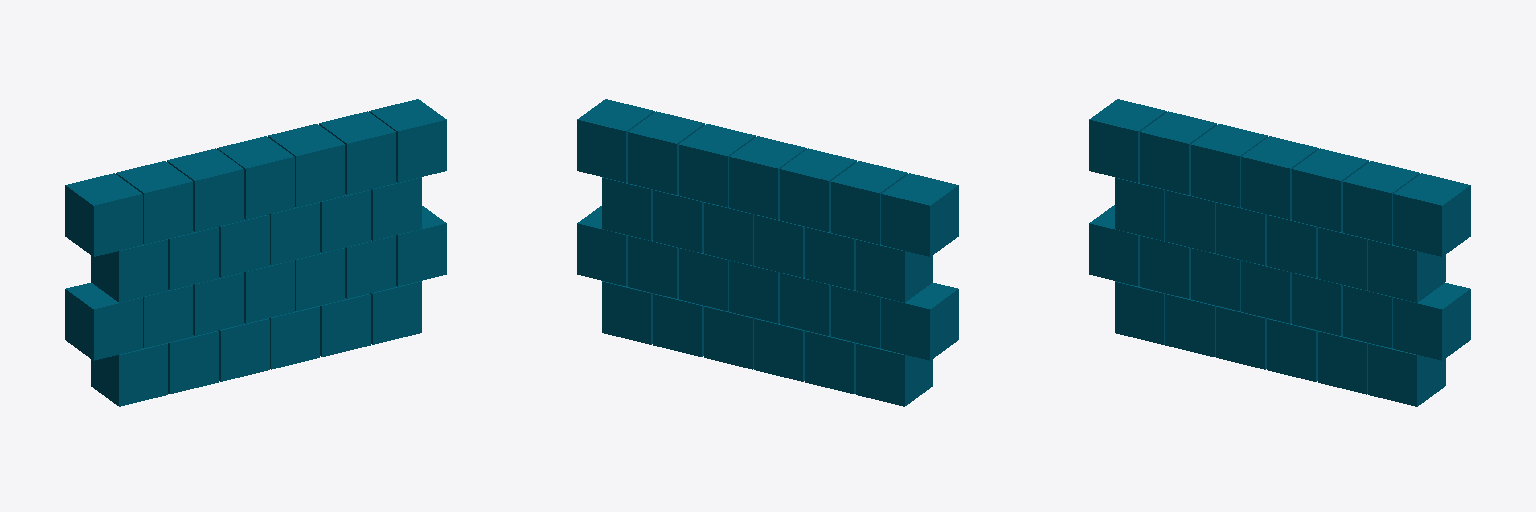
The model's file is cubewall.obj.
3 views of the same model, side by side, from view 1: azimuth 30°, elevation 25°; view 2: azimuth 150°, elevation 25°; view 3: azimuth 330°, elevation 25° (orthographic).
Visible parts, largest first — view 1: Box022, Box008, Box020, Box024, Box023, Box026, Box021, Box025, Box001, Box018, Box013, Box004 (+14 smaller); view 2: Box022, Box008, Box020, Box024, Box023, Box026, Box021, Box025, Box001, Box018, Box013, Box004 (+14 smaller); view 3: Box023, Box013, Box022, Box026, Box025, Box021, Box024, Box020, Box004, Box016, Box008, Box003 (+14 smaller).
Boxes of the visible parts, x1,y1,x2,y2 form: Box022: [65, 173, 142, 256]; Box008: [65, 283, 142, 360]; Box020: [167, 148, 243, 231]; Box024: [319, 111, 395, 194]; Box023: [369, 99, 446, 182]; Box026: [217, 136, 294, 219]; Box021: [116, 161, 192, 244]; Box025: [268, 124, 344, 207]; Box001: [91, 343, 167, 406]; Box018: [91, 239, 167, 302]; Box013: [396, 206, 446, 286]; Box004: [370, 281, 421, 344]; Box022: [881, 173, 958, 256]; Box008: [881, 283, 958, 360]; Box020: [780, 148, 856, 231]; Box024: [628, 111, 704, 194]; Box023: [577, 99, 654, 182]; Box026: [729, 136, 806, 219]; Box021: [831, 161, 907, 244]; Box025: [679, 124, 755, 207]; Box001: [856, 343, 932, 406]; Box018: [856, 239, 932, 302]; Box013: [577, 206, 627, 286]; Box004: [602, 281, 653, 344]; Box023: [1393, 173, 1470, 256]; Box013: [1393, 283, 1470, 360]; Box022: [1089, 99, 1166, 182]; Box026: [1241, 136, 1318, 219]; Box025: [1292, 148, 1368, 231]; Box021: [1140, 111, 1216, 194]; Box024: [1343, 161, 1419, 244]; Box020: [1191, 124, 1267, 207]; Box004: [1368, 343, 1445, 406]; Box016: [1368, 239, 1445, 302]; Box008: [1089, 205, 1139, 286]; Box003: [1216, 306, 1266, 369].
Bounding box in the file's own units: 130 × 72.63 × 18.